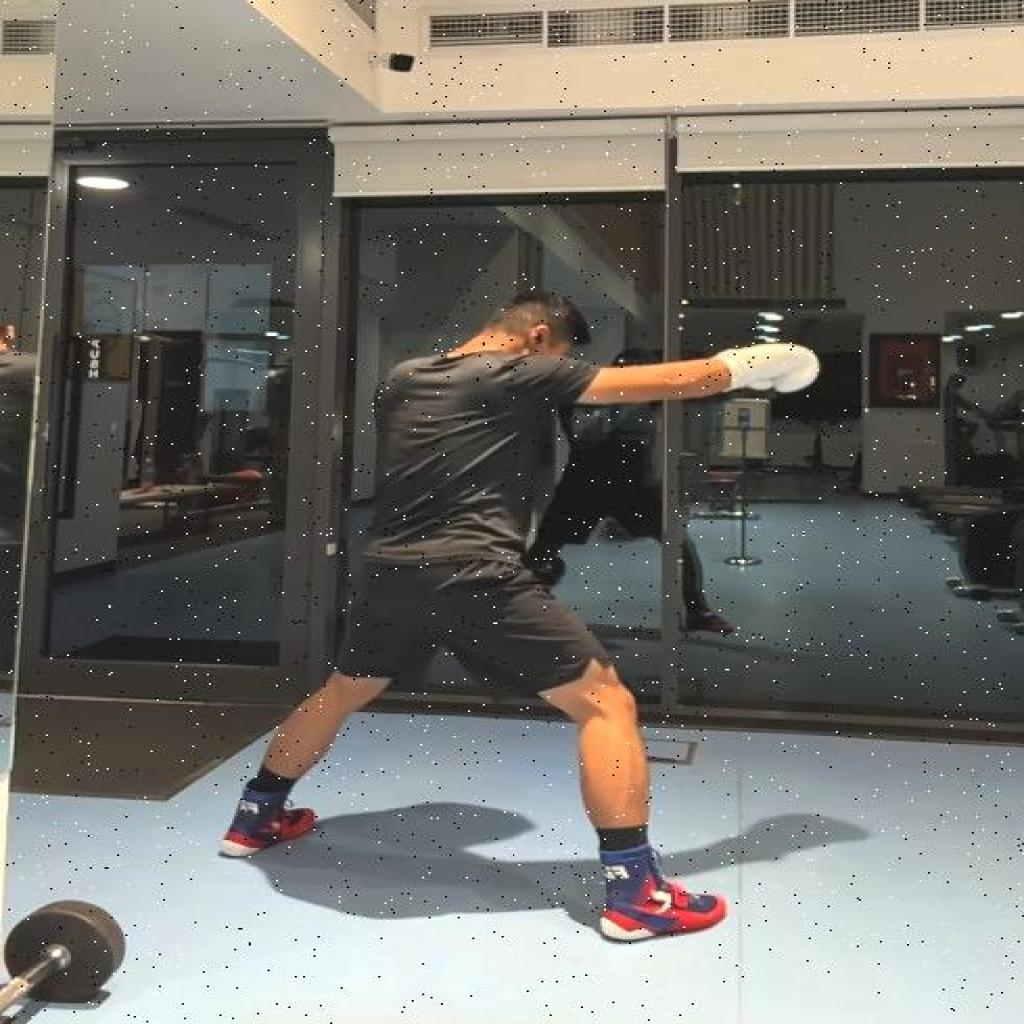jab: (216, 291, 822, 946)
